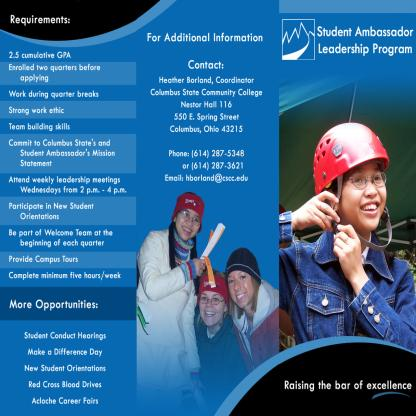Helmet: (315, 121, 400, 239)
